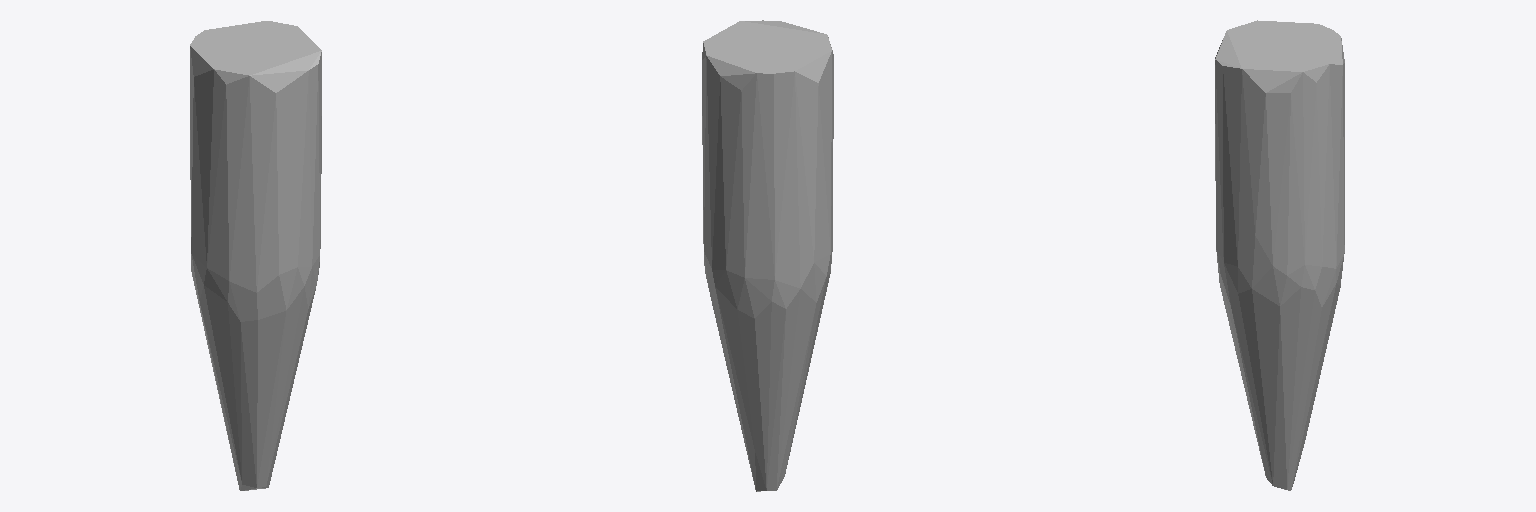
URDF robot description (root):
<robot name="root">
  <link name="link_obj_chull_urdf_convex_piece_0">
    <inertial>
      <origin xyz="0 0 0" rpy="0 0 0"/>
      <mass value="1.78E-04"/>
      <inertia ixx="2.77E-07" ixy="-1.28E-10" ixz="1.60E-09" iyy="2.77E-07" iyz="-1.20E-09" izz="3.75E-08"/>
    </inertial>
    <visual>
      <origin xyz="0 0 0" rpy="0 0 0"/>
      <geometry>
        <mesh filename="obj_chull_urdf_convex_piece_0.obj" scale="1.0000E+00 1.0000E+00 1.0000E+00"/>
      </geometry>
      <material name="">
        <color rgba="7.50E-01 7.50E-01 7.50E-01 1"/>
      </material>
    </visual>
    <collision>
      <origin xyz="0 0 0" rpy="0 0 0"/>
      <geometry>
        <mesh filename="obj_chull_urdf_convex_piece_0.obj" scale="1.0000E+00 1.0000E+00 1.0000E+00"/>
      </geometry>
    </collision>
  </link>
</robot>

--- What the picture shows (computed from the rendered views, not written in the file) ---
The picture shows the robot from 3 angles, left to right: view 1: azimuth 30°, elevation 25°; view 2: azimuth 150°, elevation 25°; view 3: azimuth 270°, elevation 25°; orthographic projection.
Robot: root — 1 links, 0 joints (none); root link link_obj_chull_urdf_convex_piece_0; default pose: all joints at 0.
Links seen in each view (by area): view 1: link_obj_chull_urdf_convex_piece_0; view 2: link_obj_chull_urdf_convex_piece_0; view 3: link_obj_chull_urdf_convex_piece_0.
Boxes of the visible links, <box> form: link_obj_chull_urdf_convex_piece_0: <box>190,21,321,490</box>; link_obj_chull_urdf_convex_piece_0: <box>702,20,833,491</box>; link_obj_chull_urdf_convex_piece_0: <box>1215,20,1344,490</box>.
Size in the robot's own frame: 0.0438 by 0.044 by 0.1649 metres.
1 mesh visuals loaded from 1 distinct referenced files (1 OBJ).